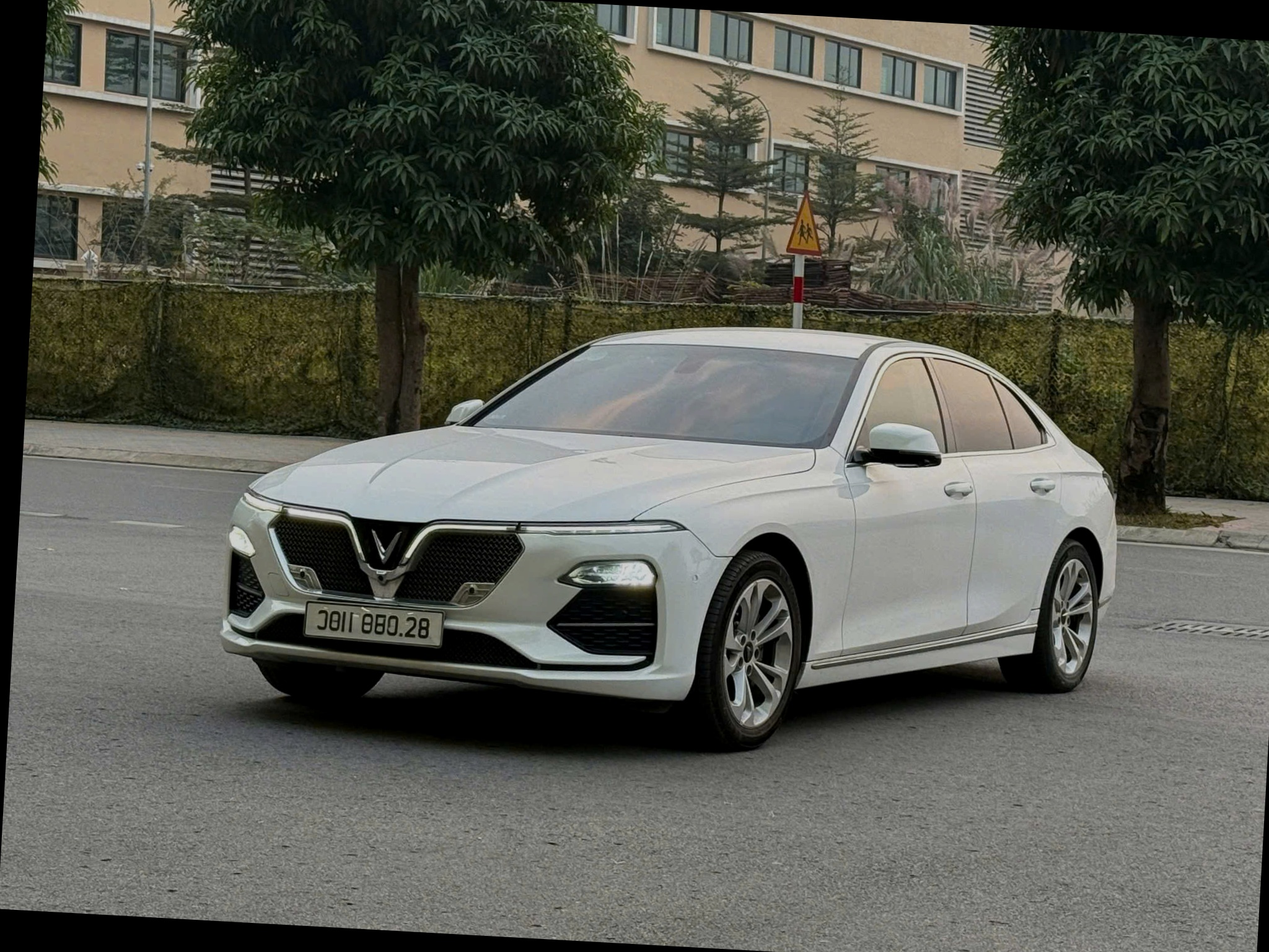Bien-so: (323, 647, 468, 701)
